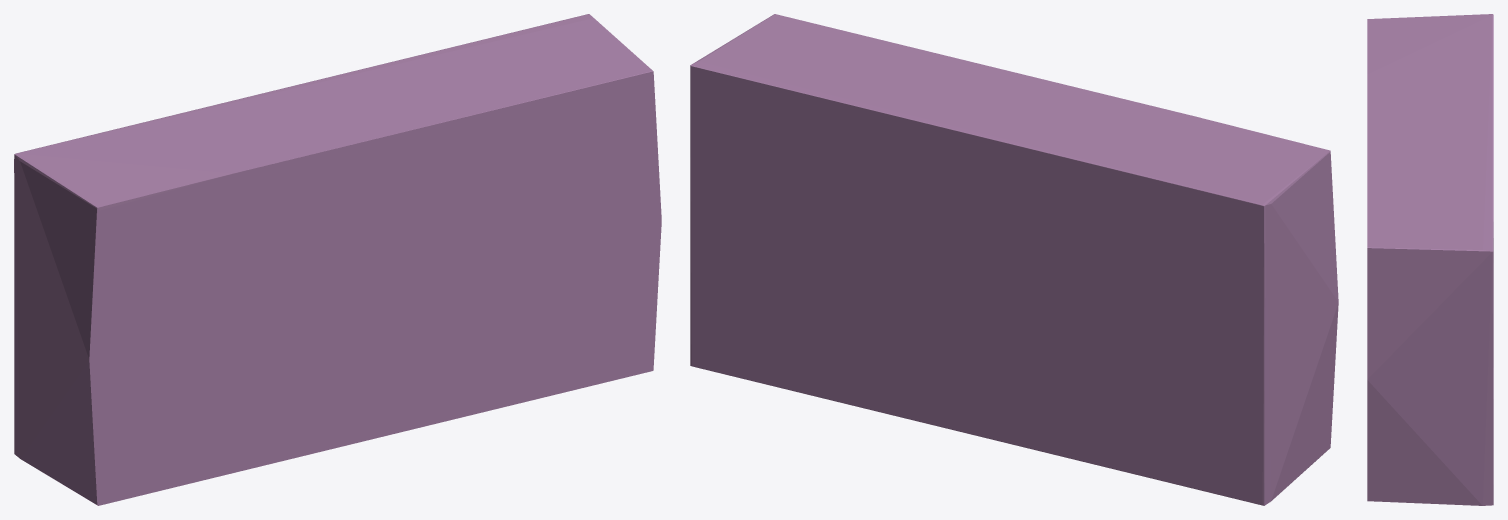
The model's file is lighting_overheadLed_hexGrid_a02.glb.
3 views of the same model, side by side, from view 1: azimuth 30°, elevation 25°; view 2: azimuth 150°, elevation 25°; view 3: azimuth 270°, elevation 25° (orthographic). The views are drawn at different scales.
Parts seen in each view (by area): view 1: geometry_0; view 2: geometry_0; view 3: geometry_0.
Part boxes in pixels (<box>): geometry_0: <box>14,14,661,505</box>; geometry_0: <box>690,14,1338,505</box>; geometry_0: <box>1367,14,1493,505</box>.
Bounding box in the file's own units: 0.48 × 0.2402 × 0.1081.
